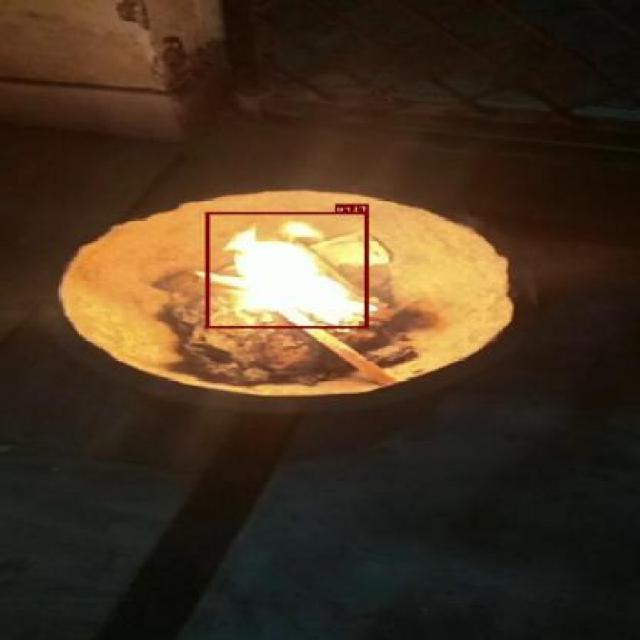Fire: (206, 212, 369, 328)
